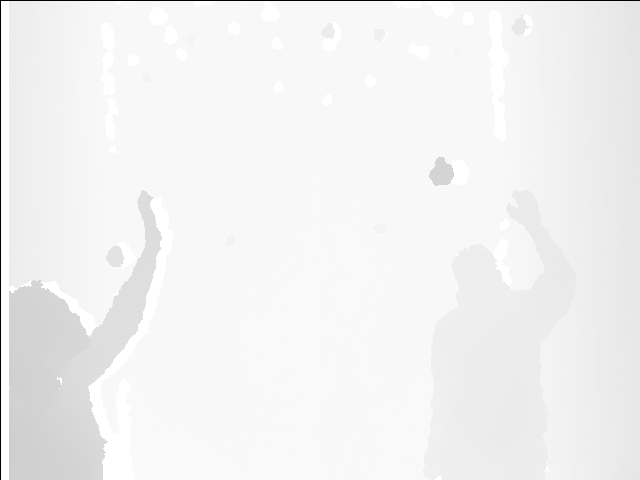hand: (135, 185, 173, 246), (504, 187, 536, 230)
